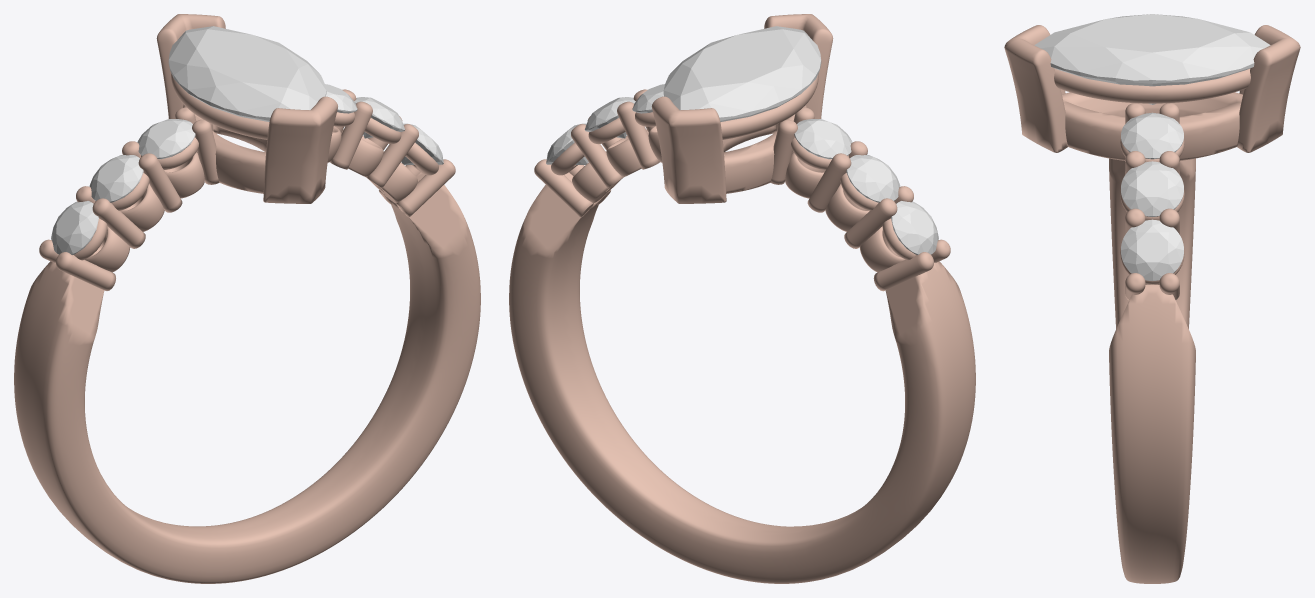
Rendered from diamond-marquise-rosegold-protectededges2prongs-straighttaperedband-7stone.glb.
3 renders of one model, left to right at view 1: azimuth 30°, elevation 25°; view 2: azimuth 150°, elevation 25°; view 3: azimuth 270°, elevation 25°, orthographic. The views are drawn at different scales.
Parts seen in each view (by area): view 1: metal, stone.002, dia.001, dia.009, dia.010, dia.012; view 2: metal, stone.002, dia.001, dia.009, dia.010, dia.012; view 3: metal, stone.002, dia.011, dia.012, dia.013.
Boxes of the visible parts, left/top/right/bottom form: metal: left=14, top=14, right=480, bottom=583; stone.002: left=168, top=26, right=326, bottom=121; dia.001: left=51, top=201, right=98, bottom=254; dia.009: left=89, top=155, right=143, bottom=202; dia.010: left=137, top=119, right=195, bottom=159; dia.012: left=354, top=97, right=405, bottom=138; metal: left=509, top=14, right=975, bottom=583; stone.002: left=663, top=26, right=821, bottom=121; dia.001: left=891, top=201, right=938, bottom=254; dia.009: left=846, top=155, right=900, bottom=202; dia.010: left=794, top=119, right=852, bottom=159; dia.012: left=584, top=97, right=635, bottom=138; metal: left=1004, top=25, right=1300, bottom=583; stone.002: left=1034, top=14, right=1270, bottom=104; dia.011: left=1121, top=219, right=1183, bottom=280; dia.012: left=1121, top=161, right=1183, bottom=216; dia.013: left=1121, top=112, right=1183, bottom=159.
Size of the model in its own units: 20.51 by 22.93 by 11.69.
